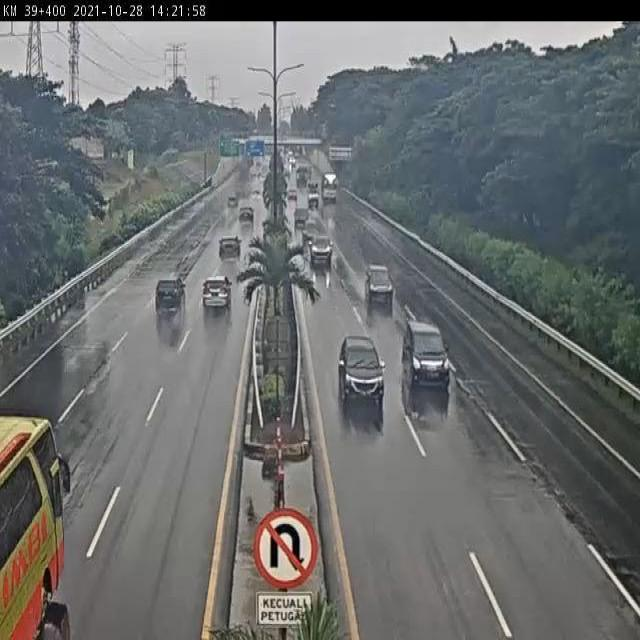car: (334, 332, 387, 408), (401, 320, 454, 392), (152, 269, 188, 315), (202, 272, 233, 313), (364, 264, 396, 301), (216, 232, 244, 263), (311, 232, 335, 263), (235, 206, 255, 230), (291, 201, 309, 224)
